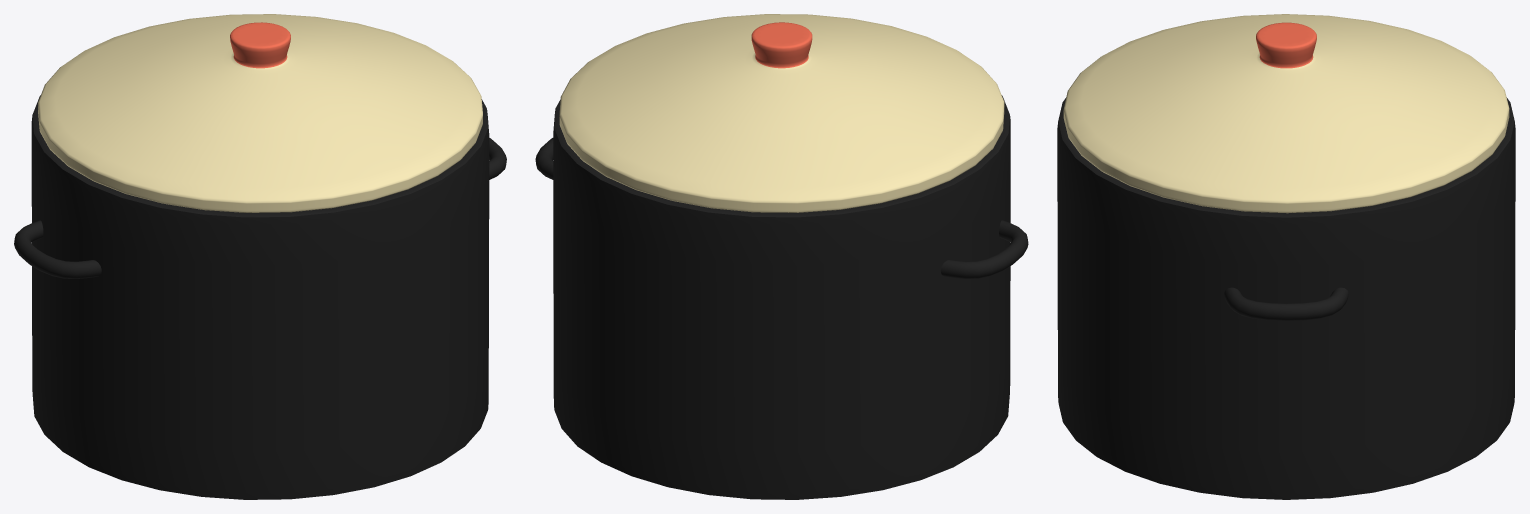
The model's file is HP_pot1.obj.
3 renders of one model, left to right at view 1: azimuth 30°, elevation 25°; view 2: azimuth 150°, elevation 25°; view 3: azimuth 270°, elevation 25°, orthographic.
Parts seen in each view (by area): view 1: HP_pot1.001, HP_pot1_lid.001; view 2: HP_pot1.001, HP_pot1_lid.001; view 3: HP_pot1.001, HP_pot1_lid.001.
Boxes of the visible parts, x1,y1,x2,y2 form: HP_pot1.001: (14,95,506,499); HP_pot1_lid.001: (38,14,482,212); HP_pot1.001: (535,95,1028,499); HP_pot1_lid.001: (559,14,1004,212); HP_pot1.001: (1057,97,1515,499); HP_pot1_lid.001: (1063,14,1509,213).
Bounding box in the file's own units: 0.4263 × 0.3218 × 0.3615.
